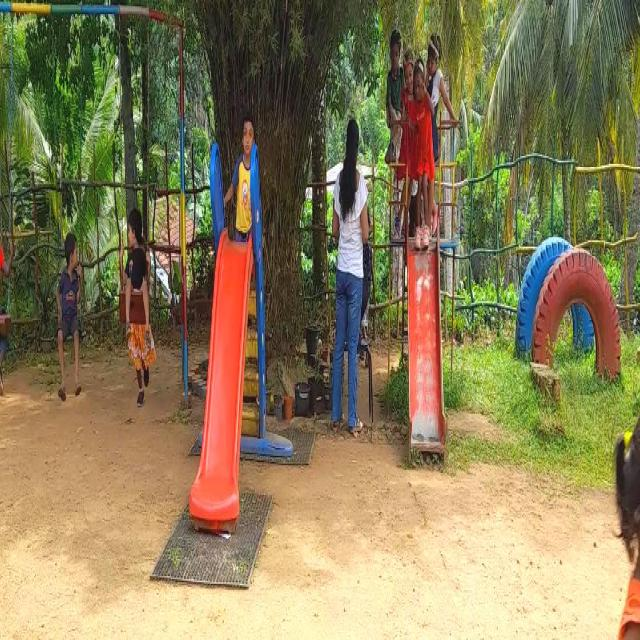adult: (331, 107, 372, 433)
child: (124, 187, 152, 376), (54, 218, 84, 383), (226, 99, 259, 223), (414, 38, 430, 251), (0, 196, 11, 398)
